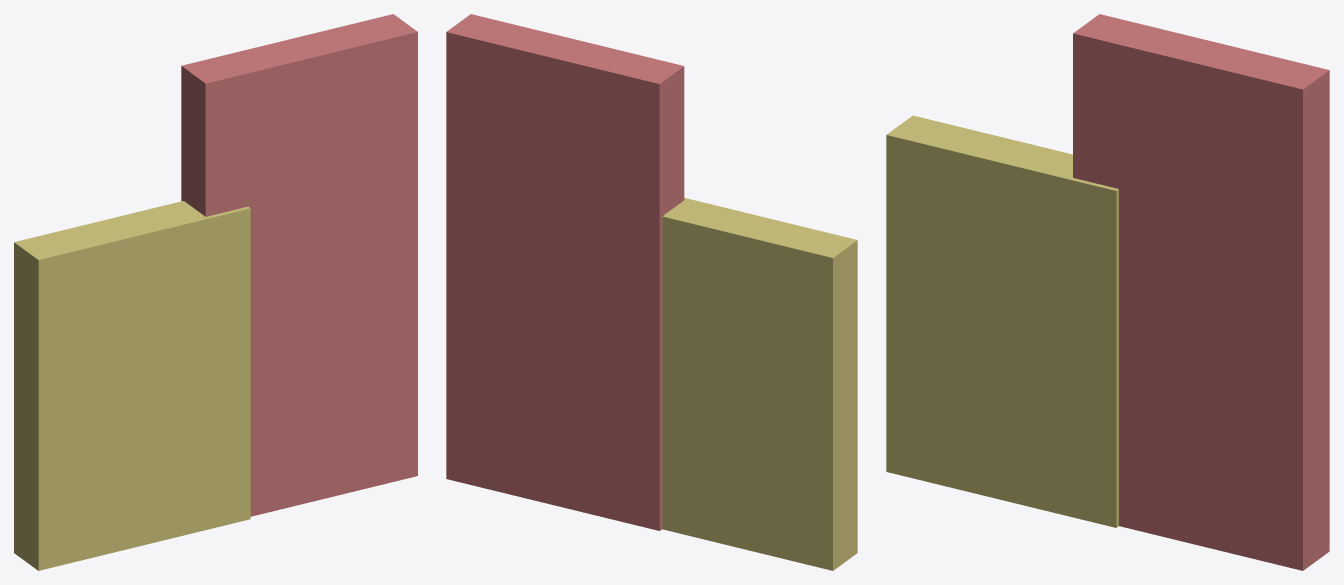
The model's file is praia_1975.glb.
The picture shows the model from 3 angles, left to right: view 1: azimuth 30°, elevation 25°; view 2: azimuth 150°, elevation 25°; view 3: azimuth 330°, elevation 25°; orthographic projection. The views are drawn at different scales.
Parts seen in each view (by area): view 1: Malha_0; view 2: Malha_0; view 3: Malha_0.
Boxes of the visible parts, box(x1,y1,x2,y2) form: Malha_0: box(14, 14, 417, 570); Malha_0: box(446, 14, 857, 570); Malha_0: box(886, 14, 1329, 570).
Bounding box in the file's own units: 0.9 × 1 × 0.11.
